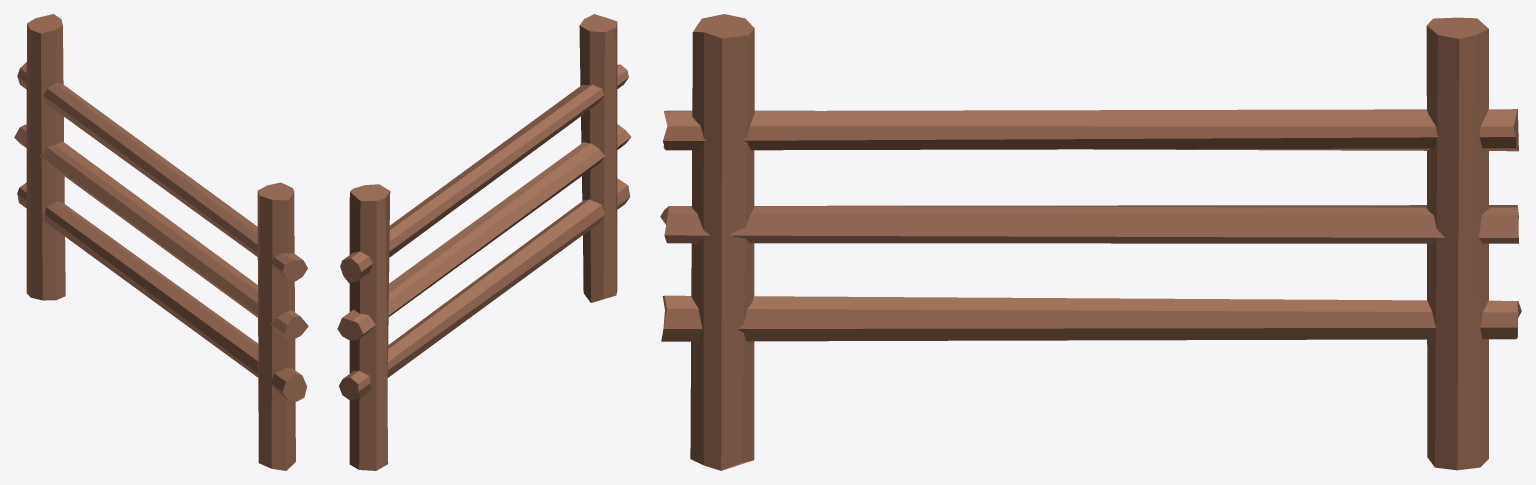
The model's file is Fence2.fbx.
3 views of the same model, side by side, from view 1: azimuth 30°, elevation 25°; view 2: azimuth 150°, elevation 25°; view 3: azimuth 270°, elevation 25° (orthographic). The views are drawn at different scales.
Parts seen in each view (by area): view 1: Fence 2; view 2: Fence 2; view 3: Fence 2.
Boxes of the visible parts, bbox=[...] form: Fence 2: bbox=[14, 14, 308, 470]; Fence 2: bbox=[337, 14, 631, 470]; Fence 2: bbox=[660, 14, 1521, 470].
Size of the model in its own units: 5.24 by 40.07 by 71.5.
